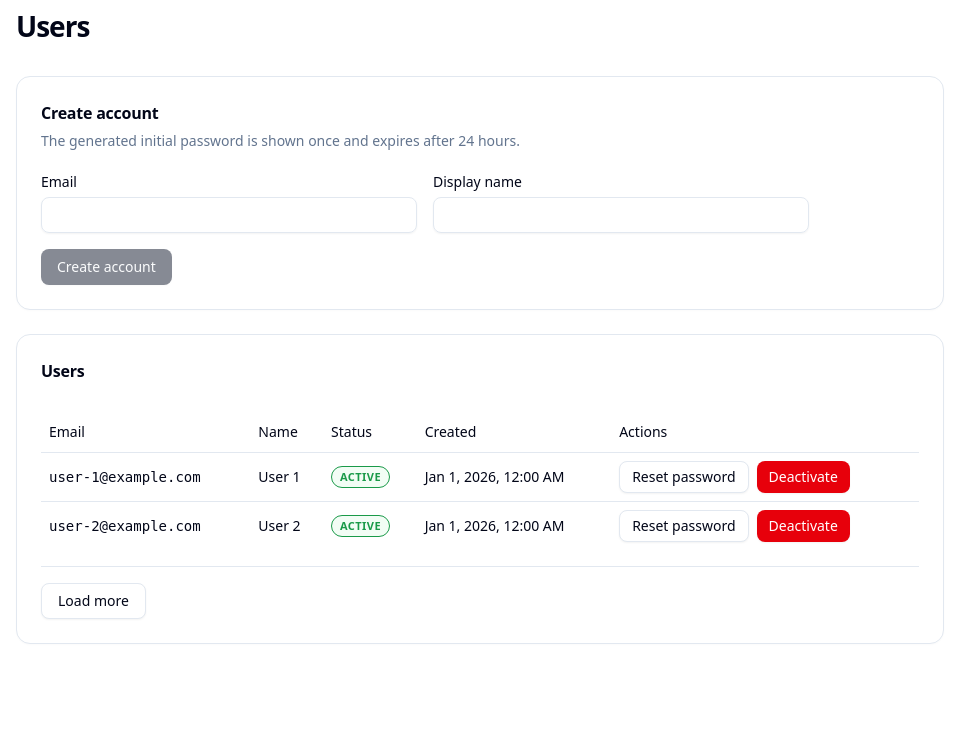
Scenario: UsersPage (CAP-044 Slice 3 / AC 19) › a failed load-more keeps accumulated rows and shows the error banner
This screenshot has width=961, height=746.
Expected: the number of rows with test id "admin-user-row" is 2, [41,453,919,502]; [41,502,919,550]
Click the button with test id "admin-users-load-more": (93, 601) [41,583,146,619]
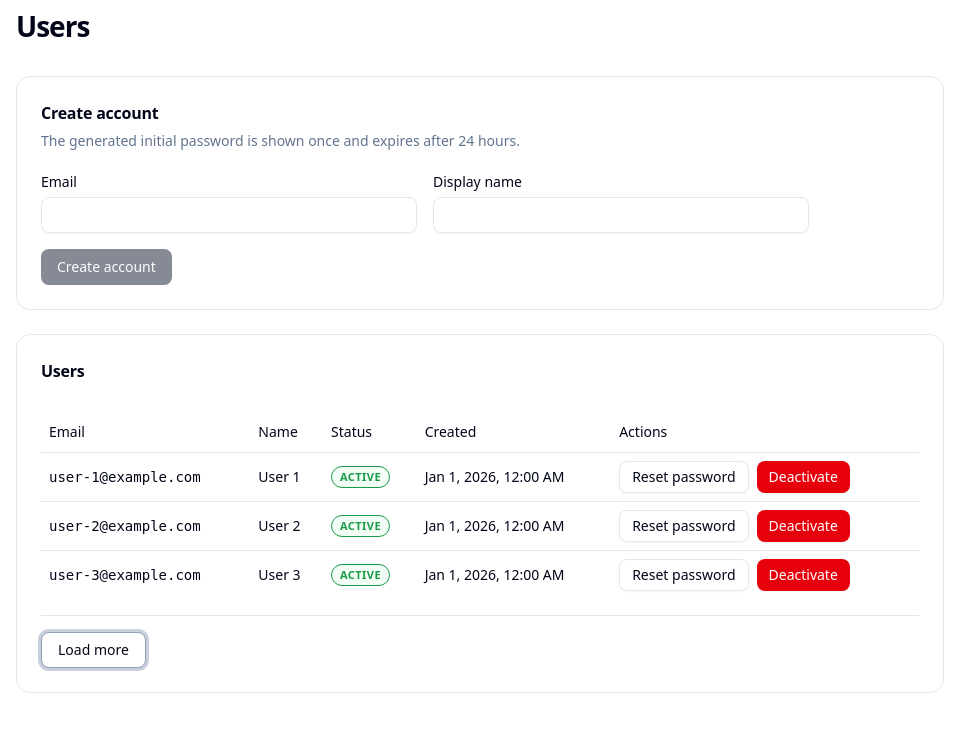
Expected: the number of rows with test id "admin-user-row" is 3, [41,453,919,502]; [41,502,919,551]; [41,551,919,599]
Click the button with test id "admin-users-load-more": (93, 650) [41,632,146,668]
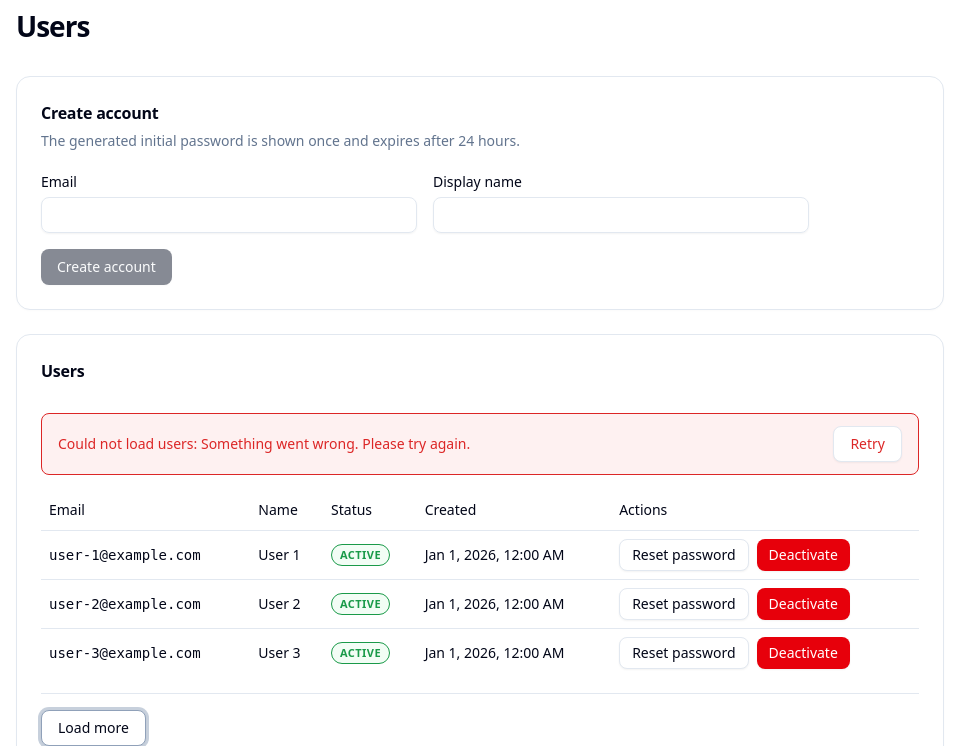
Expected: the number of rows with test id "admin-user-row" is 3, [41,531,919,580]; [41,580,919,629]; [41,629,919,677]
Expected: the message "Could not load users: Something went wrong. Please try again. Retry" is shown, [41,413,919,475]
Expected: the button with test id "users-banner-retry" is shown, [833,426,902,462]
